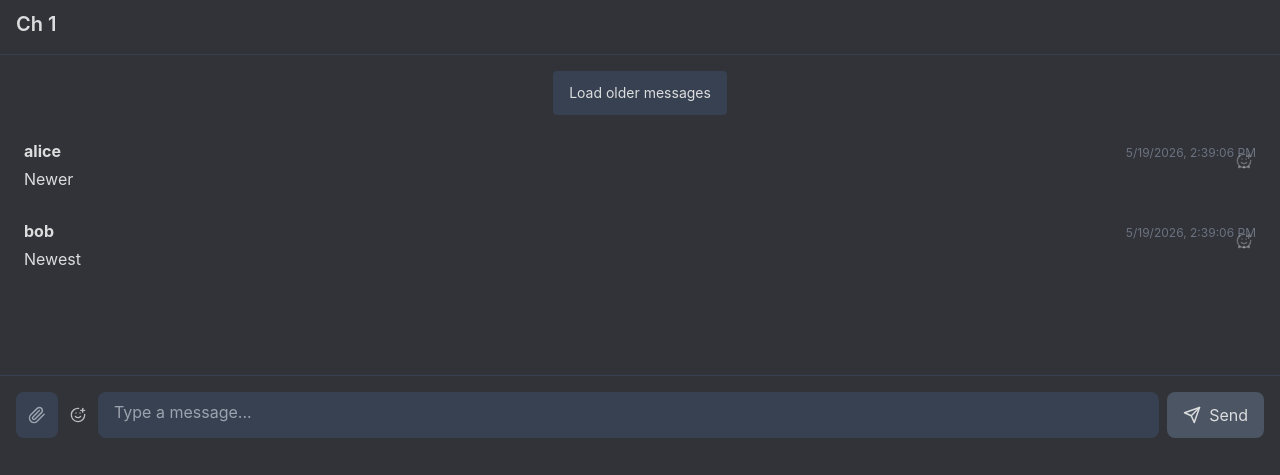
Test: ChannelView › loads older messages when Load older clicked
Expected: the text "Newest" is shown, [24, 249, 81, 269]
Note: Click and expect older message added
Click the button "Load older messages" at (640, 93), box [553, 71, 727, 115]
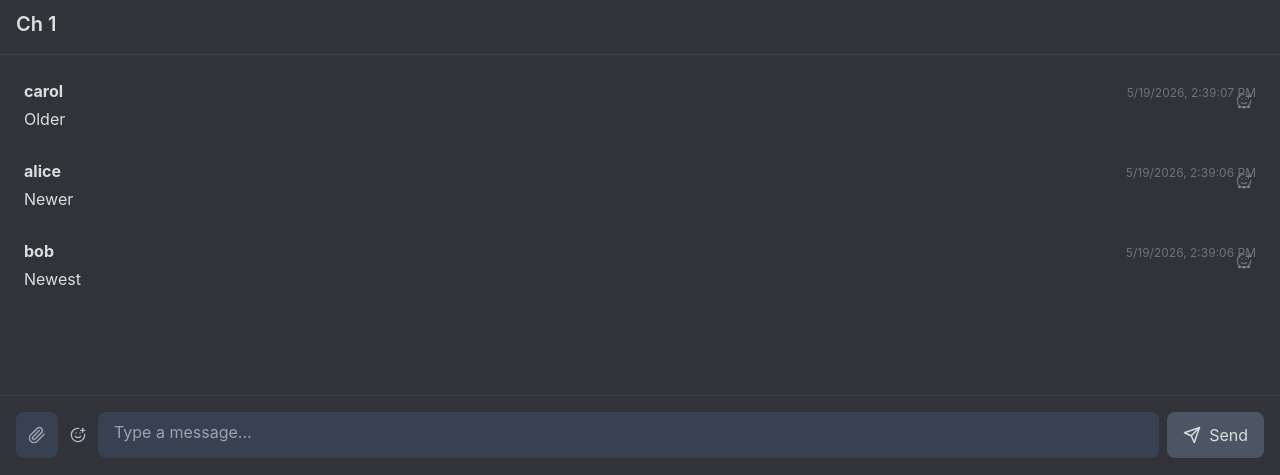
Expected: the text "Older" is shown, [24, 109, 65, 129]
Expected: the button "Load older messages" is gone
